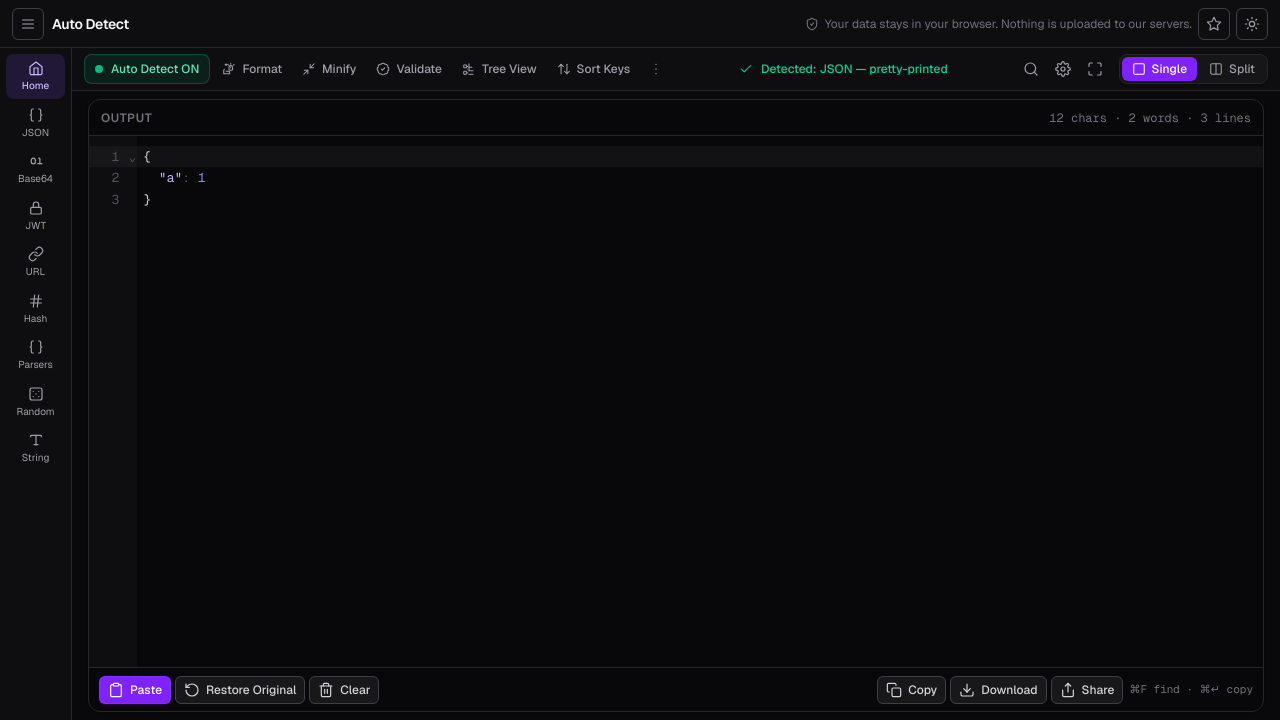
Test: Workspace — manual tools and Auto Detect toggle › Base64 Encode still applies after a Restore Original click, while Auto-detect is off
Click the button "Restore Original": (240, 690) [175, 676, 305, 704]
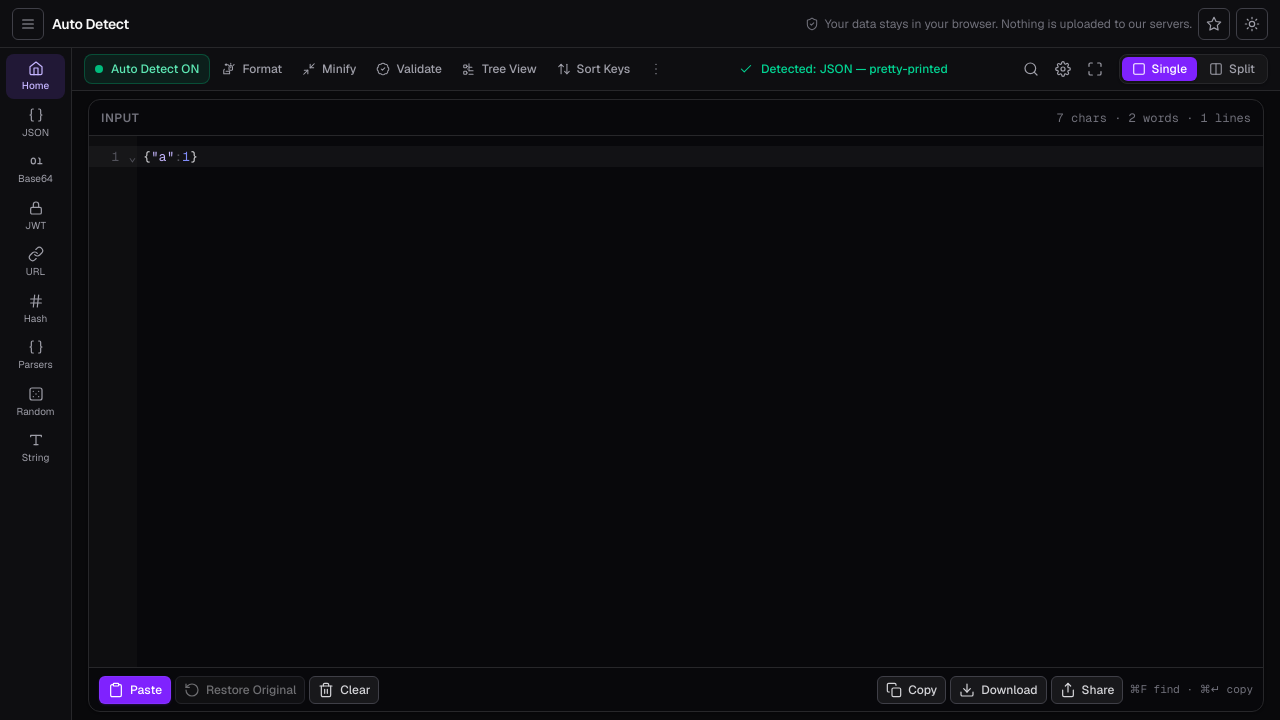
Expected: the text box labelled "{\"a\":1}" reads "{\"a\":1}", [137, 146, 1263, 167]
Click the switch labelled "Auto Detect ON": (147, 69) [84, 54, 210, 84]
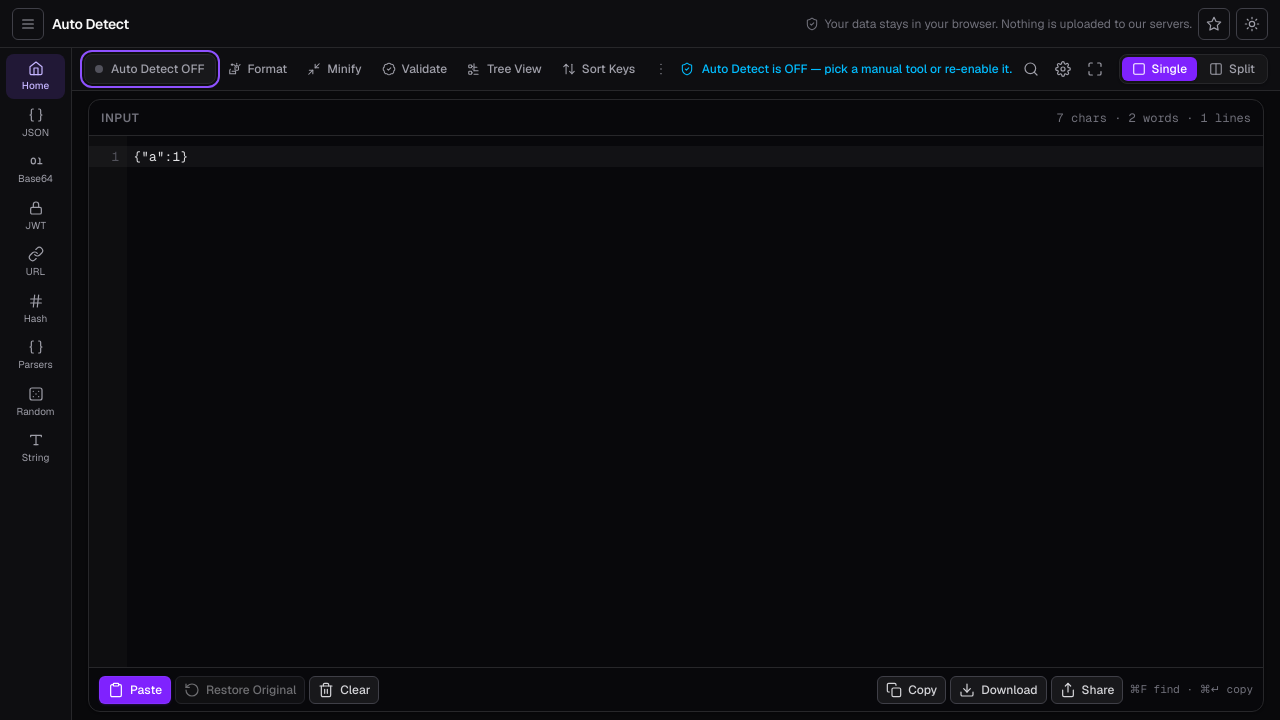
Click the button named "Select tool": (28, 24) [12, 8, 44, 40]
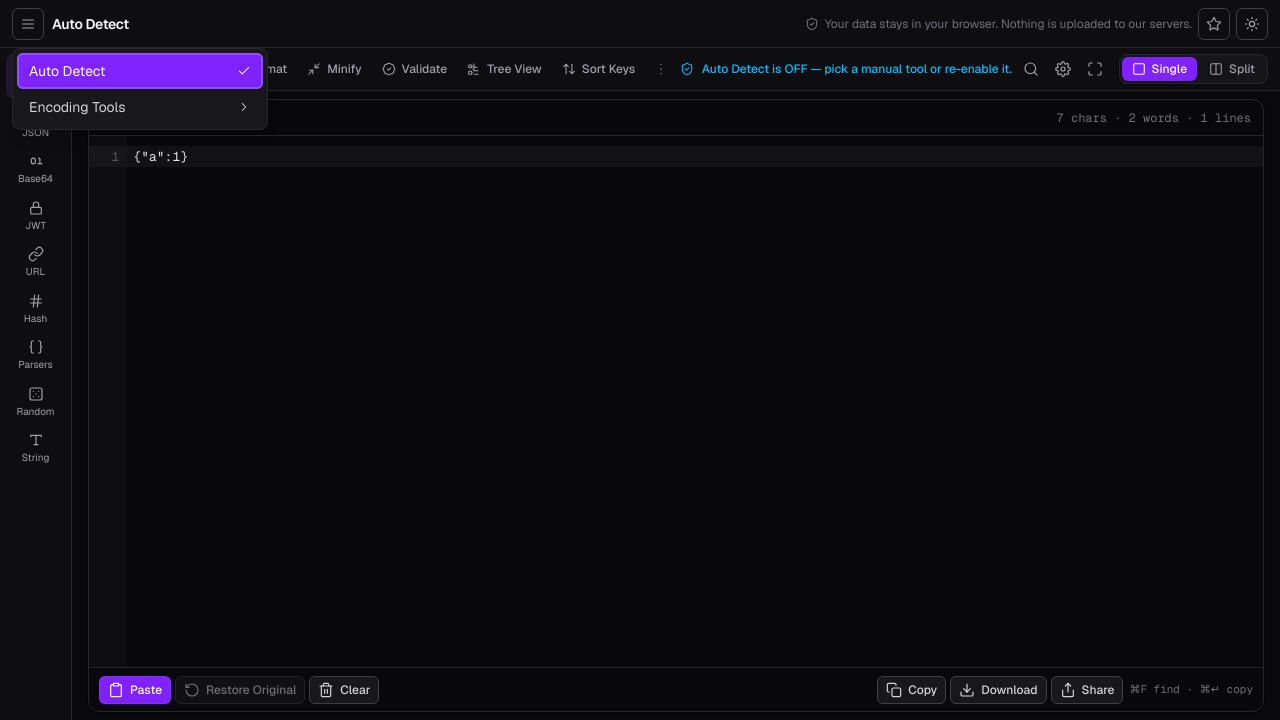
Click the menu item "Encoding Tools": (140, 106) [17, 88, 263, 124]
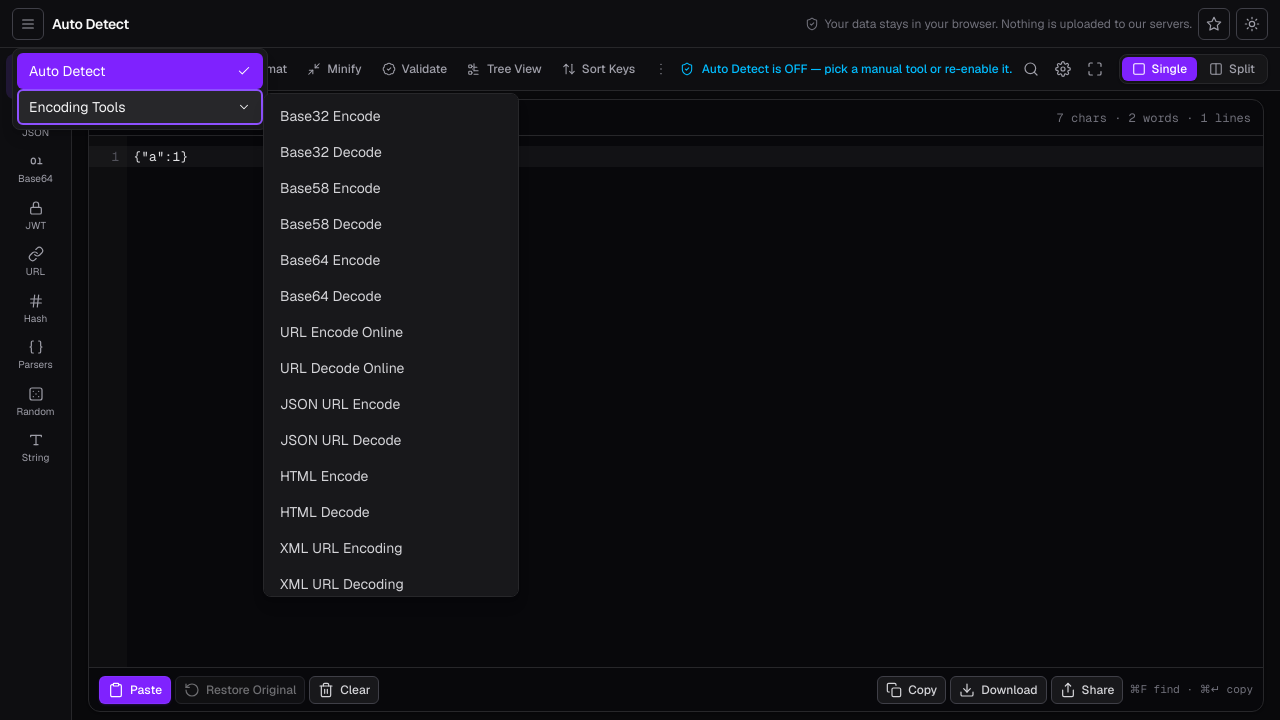
Click the menu item "Base64 Encode": (391, 260) [268, 242, 514, 278]
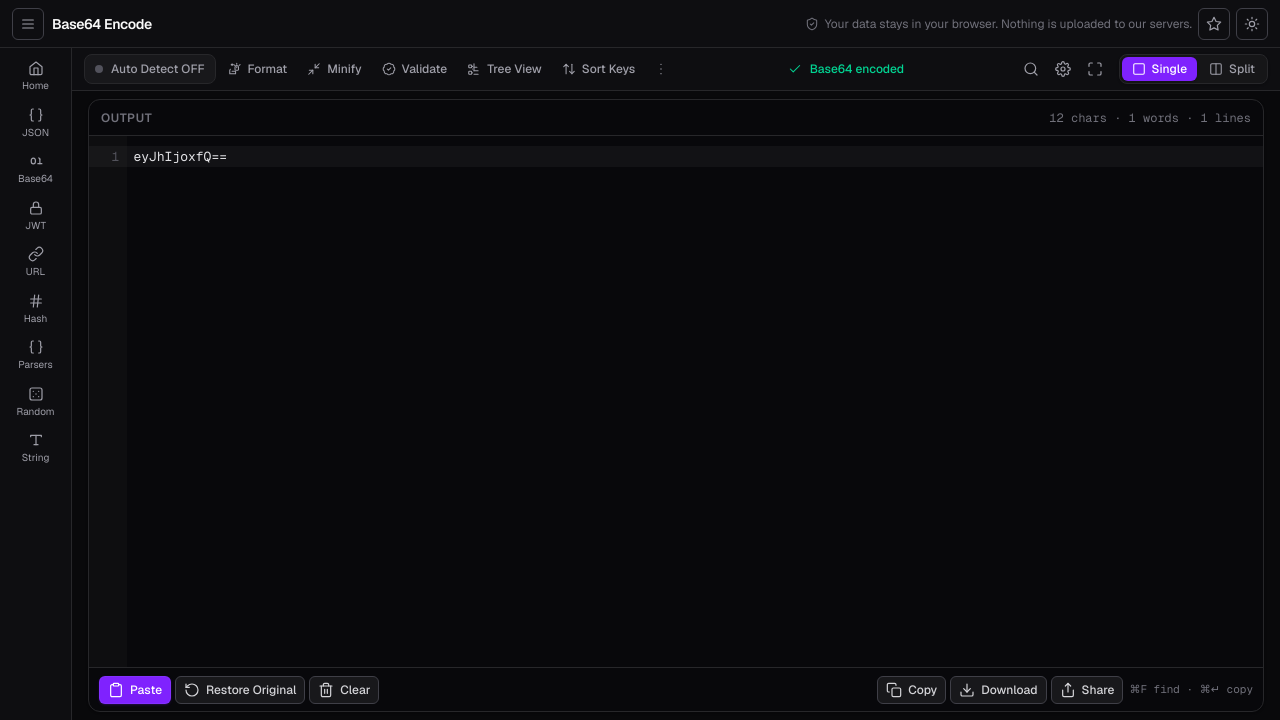
Expected: the text box labelled "eyJhIjoxfQ==" is shown, [127, 146, 1263, 167]
